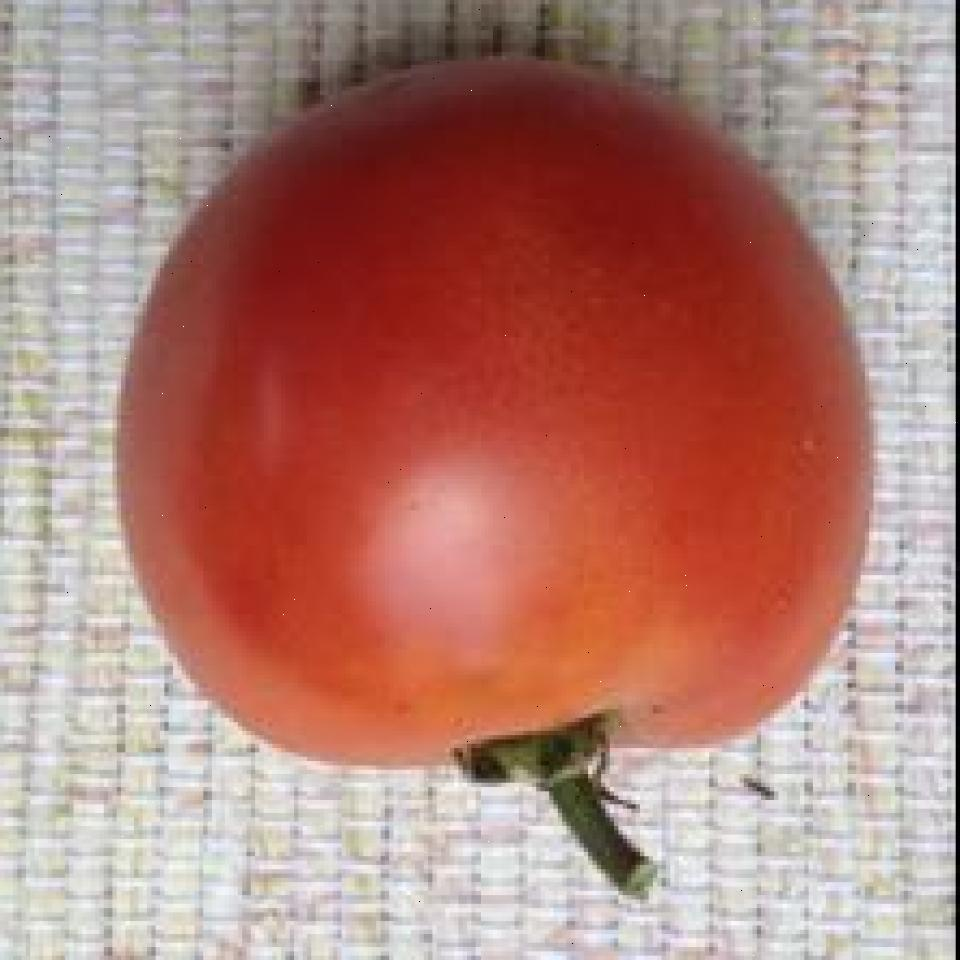Healthy: (109, 50, 891, 910)
